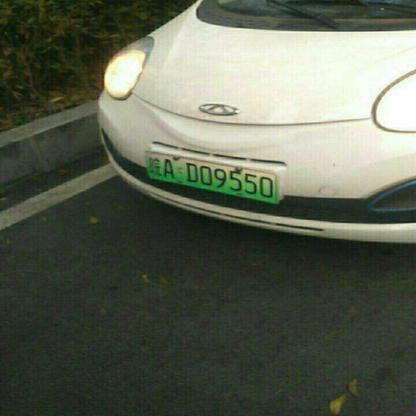lp: (145, 150, 276, 202)
